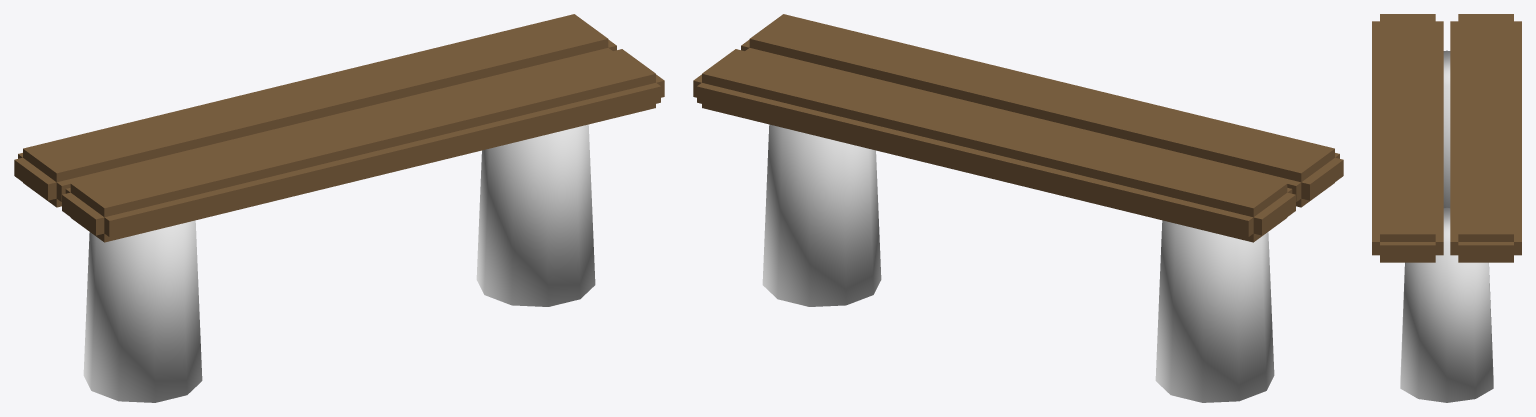
File: SM_DF_Bench.fbx
The picture shows the model from 3 angles, left to right: view 1: azimuth 30°, elevation 25°; view 2: azimuth 150°, elevation 25°; view 3: azimuth 270°, elevation 25°; orthographic projection. The views are drawn at different scales.
Visible parts, largest first — view 1: SM_DF_Bench; view 2: SM_DF_Bench; view 3: SM_DF_Bench.
Boxes of the visible parts, x1,y1,x2,y2 form: SM_DF_Bench: (14,14,664,402); SM_DF_Bench: (693,14,1343,402); SM_DF_Bench: (1372,14,1521,402).
Size of the model in its own units: 165 by 46 by 60.75.
